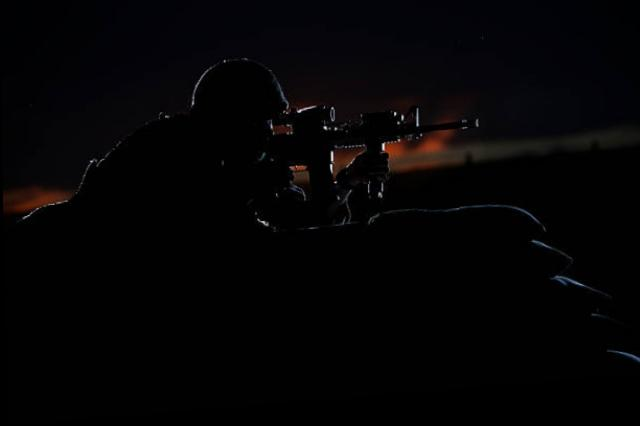other: (19, 55, 409, 267)
